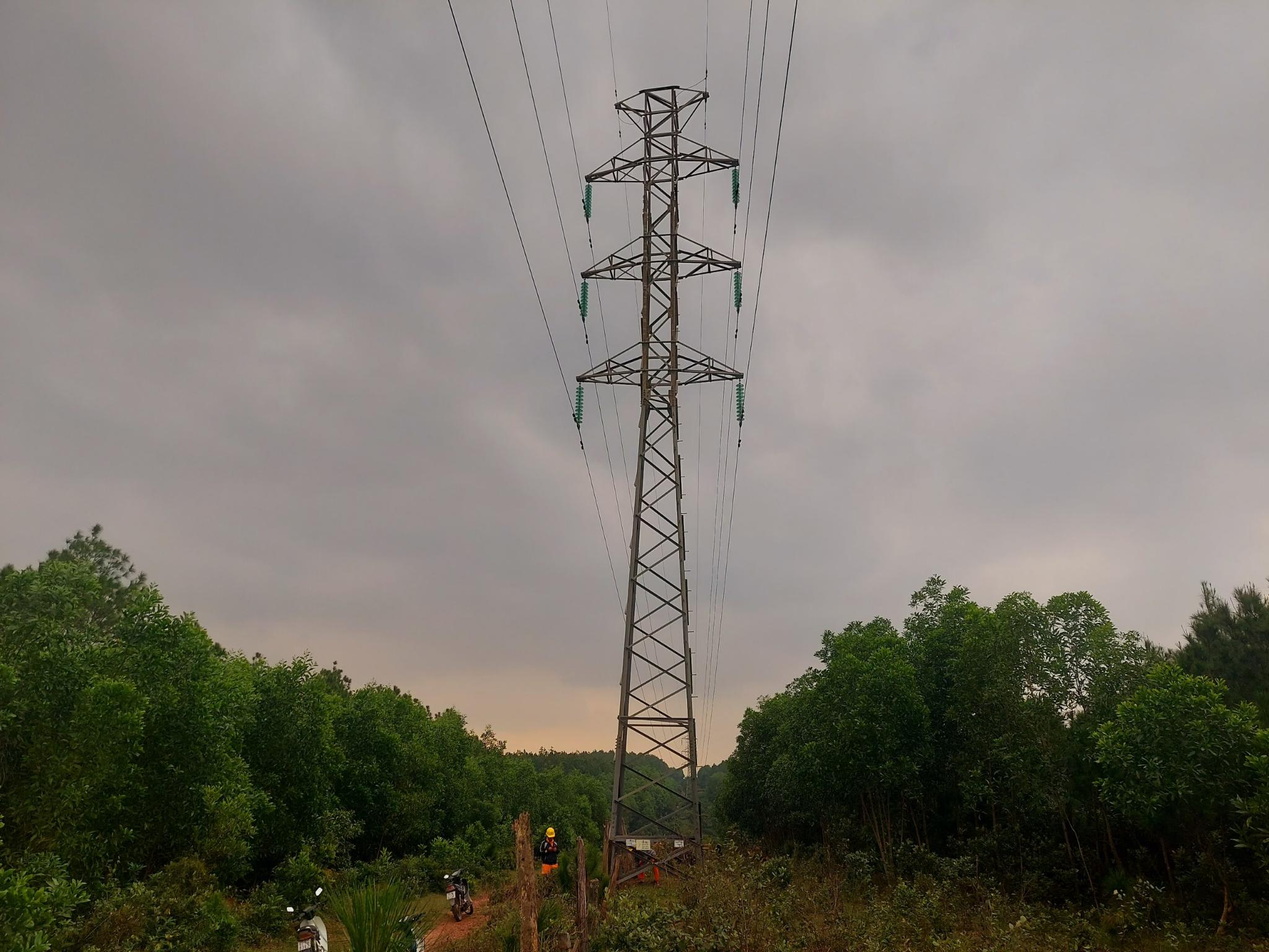tower: (565, 65, 753, 929)
